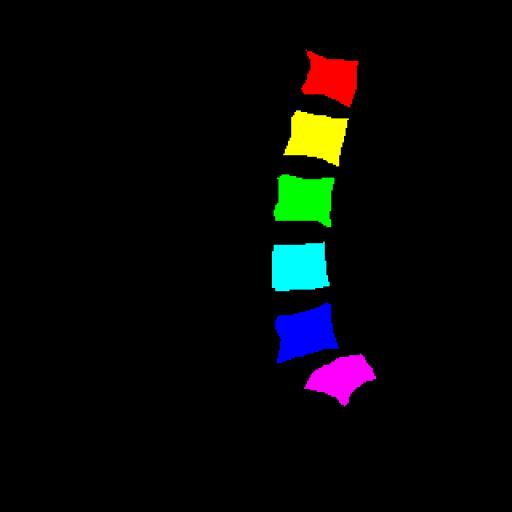L1: (301, 50, 358, 107)
L2: (284, 110, 348, 166)
L3: (274, 174, 334, 227)
L4: (271, 242, 330, 293)
L5: (277, 304, 338, 362)
S1: (305, 355, 376, 406)
